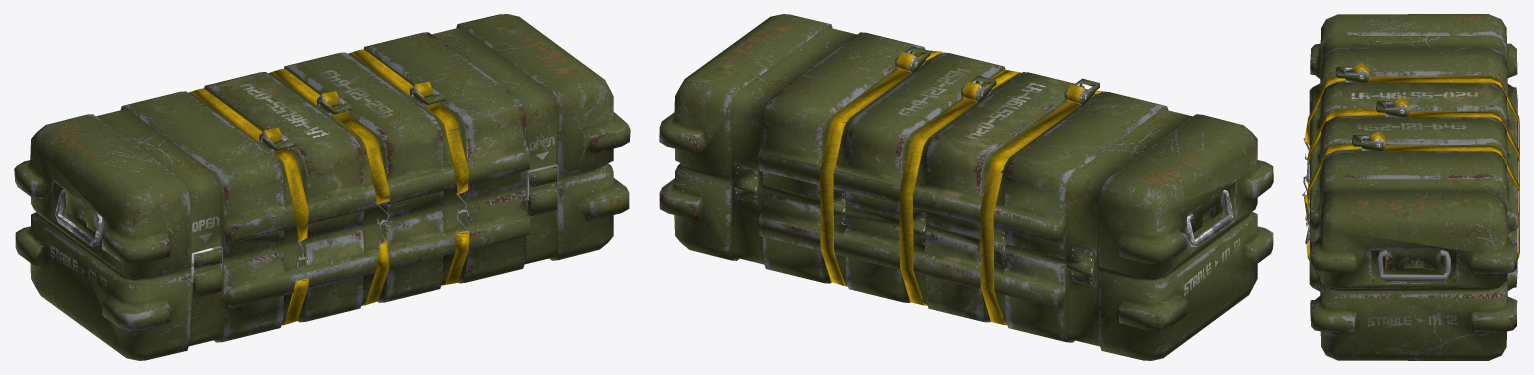
File: military-conteiner.fbx
3 renders of one model, left to right at view 1: azimuth 30°, elevation 25°; view 2: azimuth 150°, elevation 25°; view 3: azimuth 270°, elevation 25°, orthographic. The views are drawn at different scales.
Parts seen in each view (by area): view 1: Cube.004; view 2: Cube.004; view 3: Cube.004.
Part boxes in pixels (left/top/right/bottom): Cube.004: left=14, top=14, right=630, bottom=360; Cube.004: left=659, top=14, right=1273, bottom=360; Cube.004: left=1302, top=14, right=1519, bottom=360.
Size of the model in its own units: 154 by 53.54 by 64.79.
